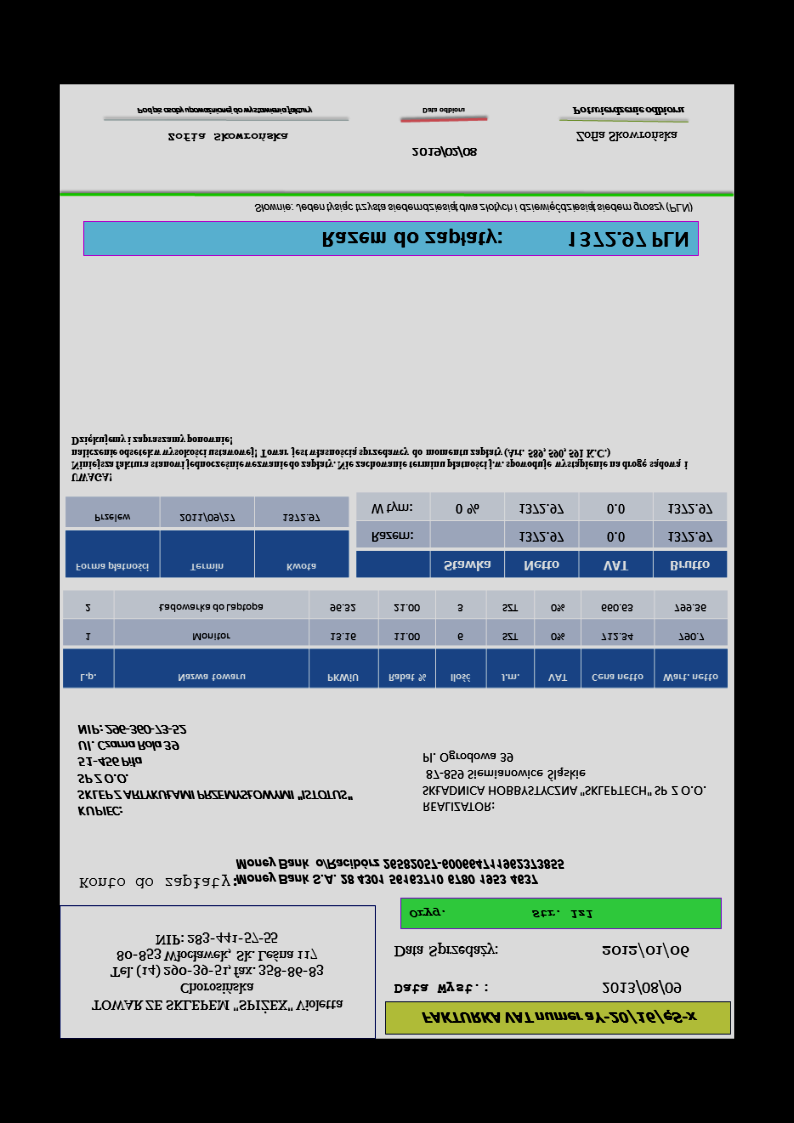Table: (61, 589, 730, 691), (354, 490, 729, 580), (64, 495, 351, 580)
TextBox: (67, 432, 693, 488), (74, 718, 356, 819), (85, 927, 348, 1017), (417, 747, 709, 817), (317, 224, 690, 256), (231, 856, 567, 887), (251, 200, 694, 217), (419, 1008, 703, 1030), (406, 905, 597, 926), (75, 872, 238, 892), (134, 105, 315, 117), (389, 979, 491, 1000), (389, 942, 499, 961), (599, 978, 685, 1000), (165, 130, 291, 145), (598, 942, 691, 962), (574, 128, 683, 145), (569, 105, 687, 117), (409, 145, 480, 162), (419, 102, 468, 118)
